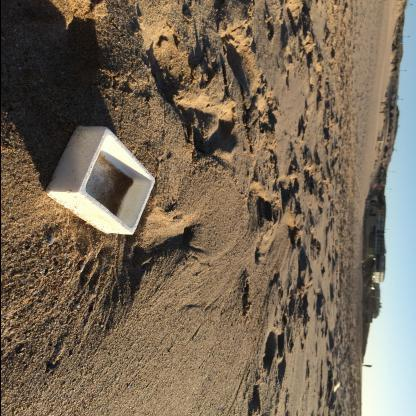kopuk: (46, 126, 155, 236)
